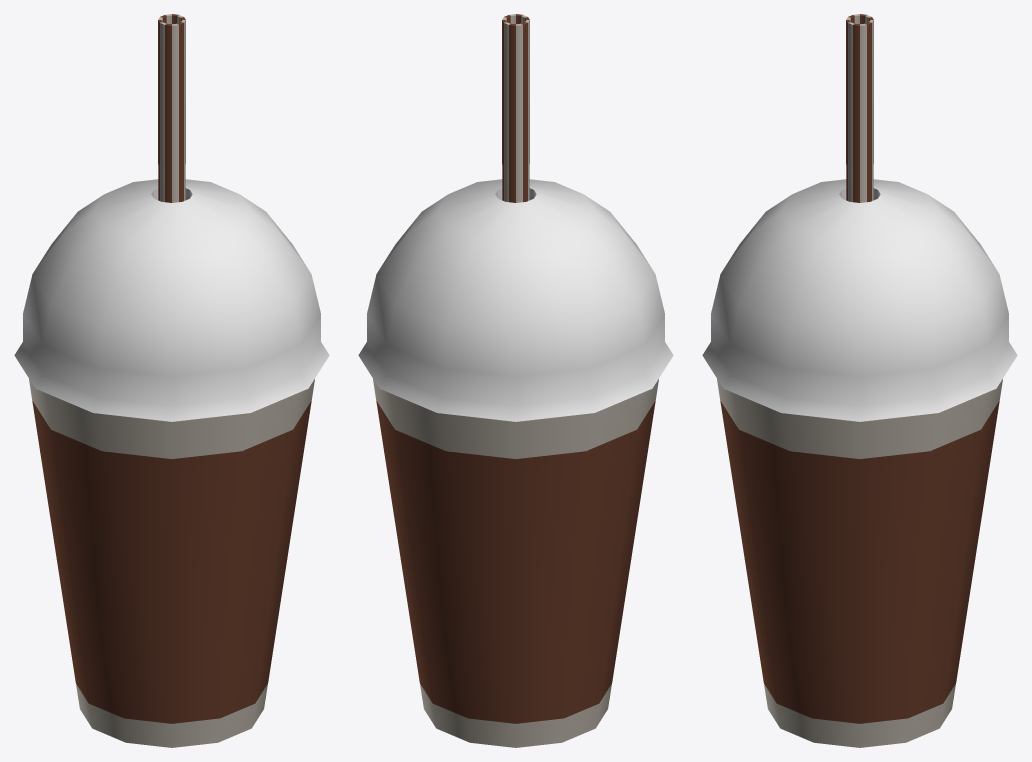
Rendered from Shake_01.fbx.
The picture shows the model from 3 angles, left to right: view 1: azimuth 30°, elevation 25°; view 2: azimuth 150°, elevation 25°; view 3: azimuth 270°, elevation 25°; orthographic projection.
Parts seen in each view (by area): view 1: Shake_01; view 2: Shake_01; view 3: Shake_01.
Boxes of the visible parts, x1=… form: Shake_01: x1=14, y1=14, x2=329, y2=747; Shake_01: x1=358, y1=14, x2=673, y2=747; Shake_01: x1=702, y1=14, x2=1017, y2=747.
Bounding box in the file's own units: 0.1165 × 0.2809 × 0.1165.
